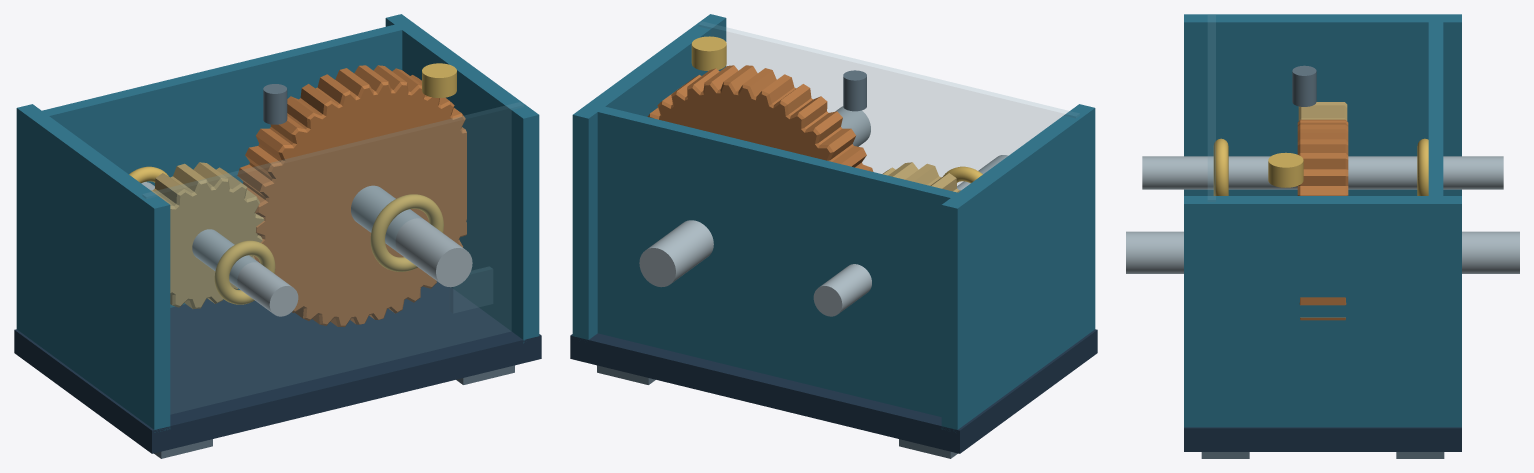
The model's file is original-conveyor-gearbox.glb.
The picture shows the model from 3 angles, left to right: view 1: azimuth 30°, elevation 25°; view 2: azimuth 150°, elevation 25°; view 3: azimuth 270°, elevation 25°; orthographic projection.
Visible parts, largest first — view 1: Removable Inspection Cover, Bearing Support Rib (×2), Cast Housing Base, Output Gear, Rear Housing Plate, Input Pinion, Output Shaft, Bearing (×2), Input Shaft, Oil Sight Window, Oil Fill Cap, Breather; view 2: Rear Housing Plate, Bearing Support Rib (×2), Removable Inspection Cover, Cast Housing Base, Output Gear, Output Shaft, Input Shaft, Input Pinion, Oil Fill Cap, Breather; view 3: Bearing Support Rib (×2), Input Shaft, Cast Housing Base, Output Shaft, Output Gear, Rear Housing Plate, Bearing (×2), Removable Inspection Cover, Oil Fill Cap, Breather, Input Pinion.
Part boxes in pixels (left/top/right/bottom): Removable Inspection Cover: left=143, top=102, right=523, bottom=413; Bearing Support Rib (×2): left=16, top=14, right=539, bottom=432; Cast Housing Base: left=14, top=281, right=541, bottom=453; Output Gear: left=237, top=65, right=466, bottom=327; Rear Housing Plate: left=34, top=24, right=407, bottom=307; Input Pinion: left=151, top=162, right=264, bottom=309; Output Shaft: left=351, top=185, right=472, bottom=287; Bearing (×2): left=214, top=194, right=443, bottom=304; Input Shaft: left=141, top=182, right=298, bottom=316; Oil Sight Window: left=450, top=267, right=492, bottom=312; Oil Fill Cap: left=422, top=63, right=456, bottom=97; Breather: left=263, top=84, right=287, bottom=124; Rear Housing Plate: left=597, top=106, right=964, bottom=416; Bearing Support Rib (×2): left=572, top=14, right=1095, bottom=432; Removable Inspection Cover: left=699, top=22, right=1079, bottom=185; Cast Housing Base: left=570, top=329, right=1097, bottom=453; Output Gear: left=647, top=65, right=873, bottom=171; Output Shaft: left=639, top=106, right=870, bottom=287; Input Shaft: left=813, top=155, right=1008, bottom=316; Input Pinion: left=882, top=162, right=960, bottom=192; Oil Fill Cap: left=691, top=36, right=726, bottom=70; Breather: left=843, top=70, right=866, bottom=111; Bearing Support Rib (×2): left=1184, top=14, right=1461, bottom=427; Input Shaft: left=1142, top=156, right=1503, bottom=189; Cast Housing Base: left=1184, top=427, right=1461, bottom=451; Output Shaft: left=1126, top=231, right=1519, bottom=273; Output Gear: left=1297, top=119, right=1348, bottom=320; Rear Housing Plate: left=1428, top=18, right=1443, bottom=199; Bearing (×2): left=1213, top=138, right=1428, bottom=195; Removable Inspection Cover: left=1208, top=14, right=1215, bottom=201; Oil Fill Cap: left=1268, top=152, right=1303, bottom=187; Breather: left=1292, top=65, right=1316, bottom=106; Input Pinion: left=1298, top=102, right=1347, bottom=120.
Size of the model in its own units: 4.9 by 3.51 by 4.25.
